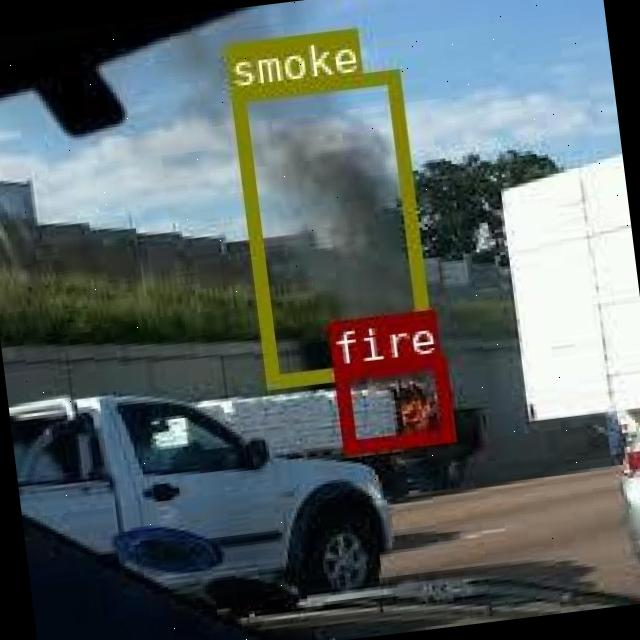fire: (332, 352, 454, 452)
smoke: (230, 67, 432, 386)
